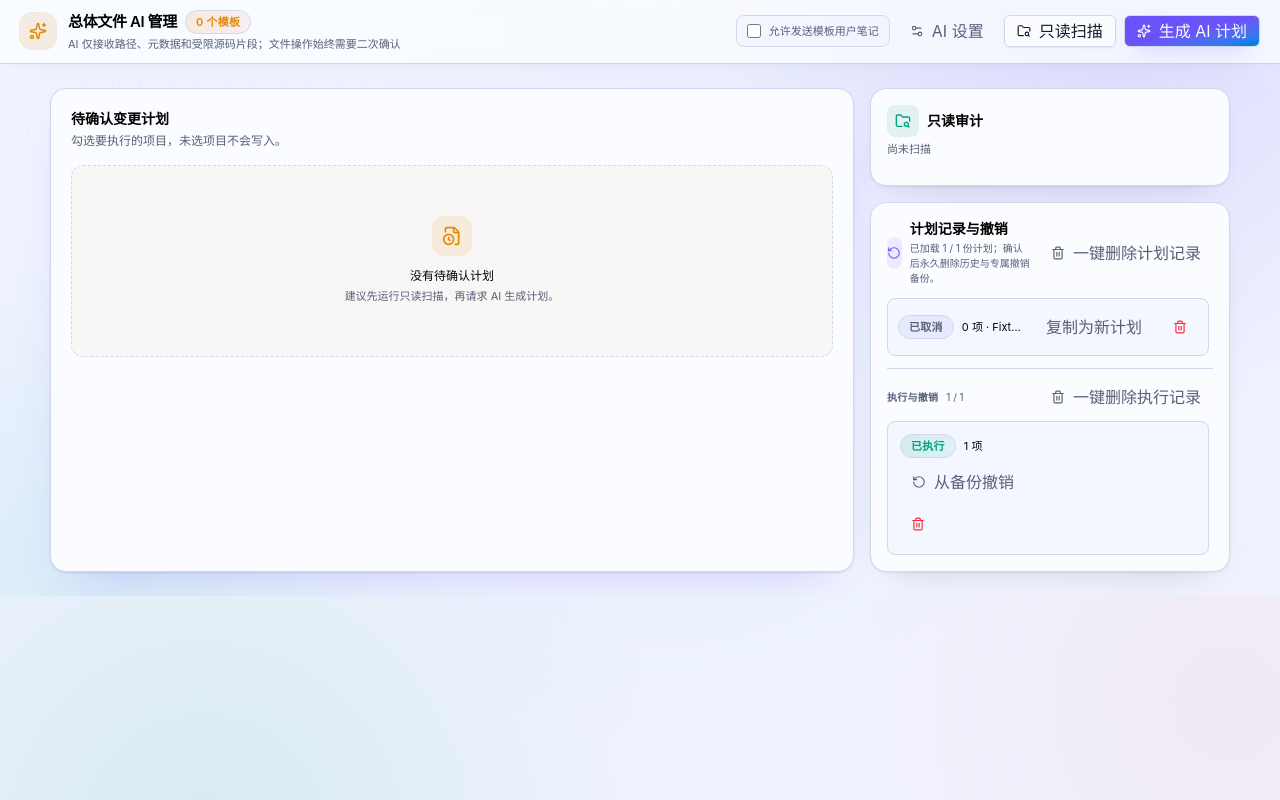
FileManagementWorkspace history actions › offers permanent deletion for applied executions
This screenshot has width=1280, height=800.
Click the button "一键删除执行记录". click: [1126, 397]
box: [1039,381,1213,413]
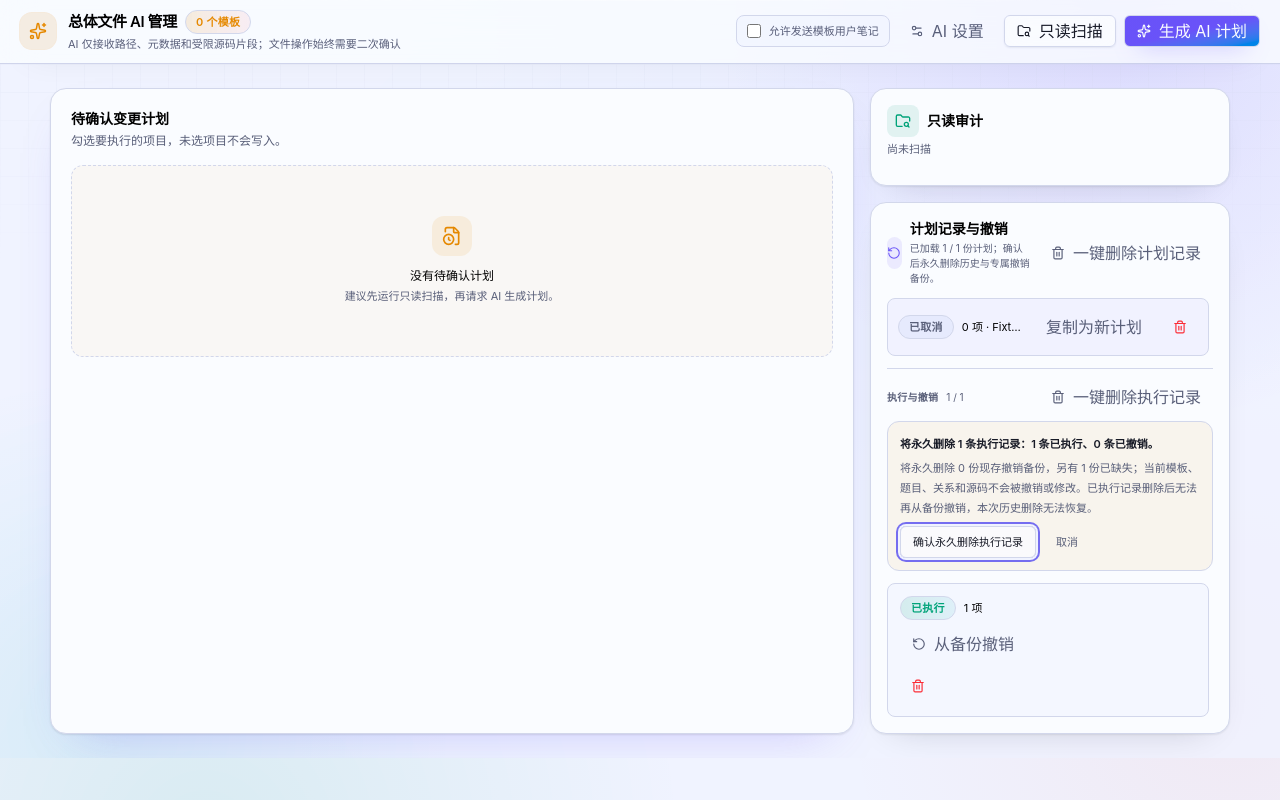
Expected: the text "将永久删除 1 条执行记录：1 条已执行、0 条已撤销。" is shown, [900,434,1200,454]
